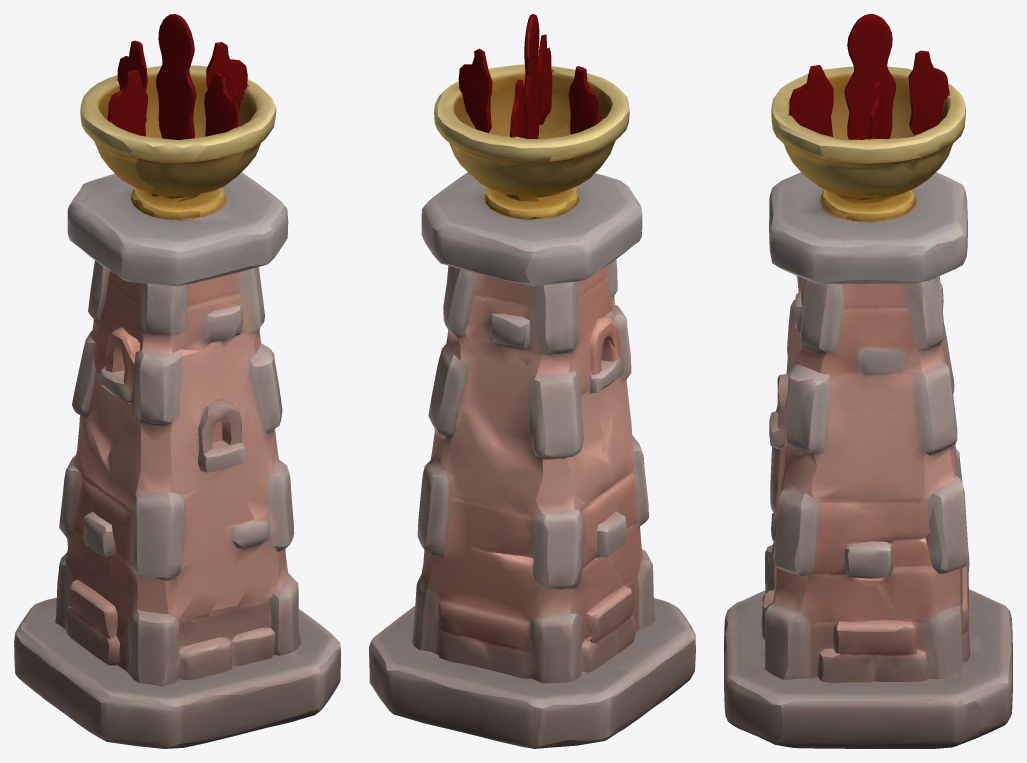
The model's file is a-tall-stone-beacon-tower-with-a-f5b887.glb.
The picture shows the model from 3 angles, left to right: view 1: azimuth 30°, elevation 25°; view 2: azimuth 150°, elevation 25°; view 3: azimuth 270°, elevation 25°; orthographic projection.
Visible parts, largest first — view 1: geometry_0; view 2: geometry_0; view 3: geometry_0.
Boxes of the visible parts, <box> form: geometry_0: <box>14,14,340,748</box>; geometry_0: <box>369,14,695,748</box>; geometry_0: <box>724,14,1012,748</box>.
Bounding box in the file's own units: 0.3797 × 1 × 0.3852.
1 material, 1 textured.
